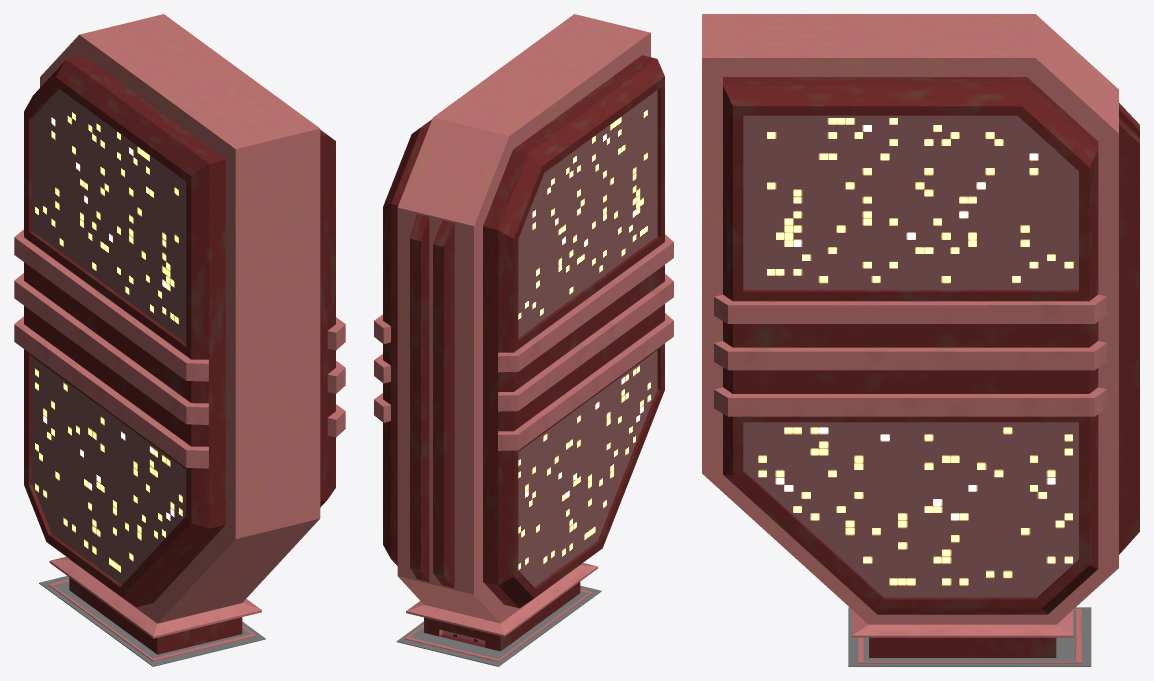
The model's file is Bina 20.fbx.
3 renders of one model, left to right at view 1: azimuth 30°, elevation 25°; view 2: azimuth 150°, elevation 25°; view 3: azimuth 270°, elevation 25°, orthographic. The views are drawn at different scales.
Parts seen in each view (by area): view 1: Generator_1, GeneratorStand_1; view 2: Generator_1, GeneratorStand_1; view 3: Generator_1, GeneratorStand_1.
Boxes of the visible parts, bbox=[...] form: Generator_1: bbox=[14, 14, 345, 654]; GeneratorStand_1: bbox=[39, 576, 265, 666]; Generator_1: bbox=[374, 14, 673, 651]; GeneratorStand_1: bbox=[396, 585, 601, 666]; Generator_1: bbox=[702, 14, 1139, 657]; GeneratorStand_1: bbox=[848, 607, 1091, 666].
Size of the model in its own units: 36.32 by 123 by 80.93.
Materials: 3 (3 with a texture image).
